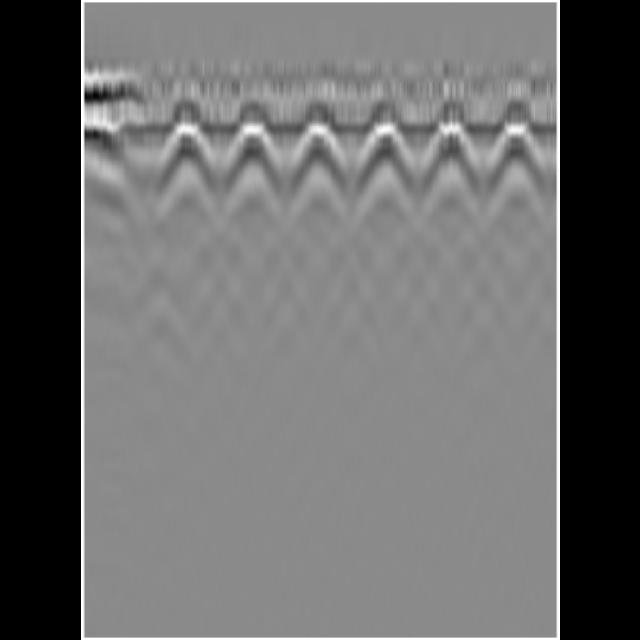hyperbola: (218, 112, 284, 182), (351, 111, 415, 182), (416, 114, 480, 180), (482, 115, 544, 183), (286, 114, 346, 180), (155, 115, 217, 178)
